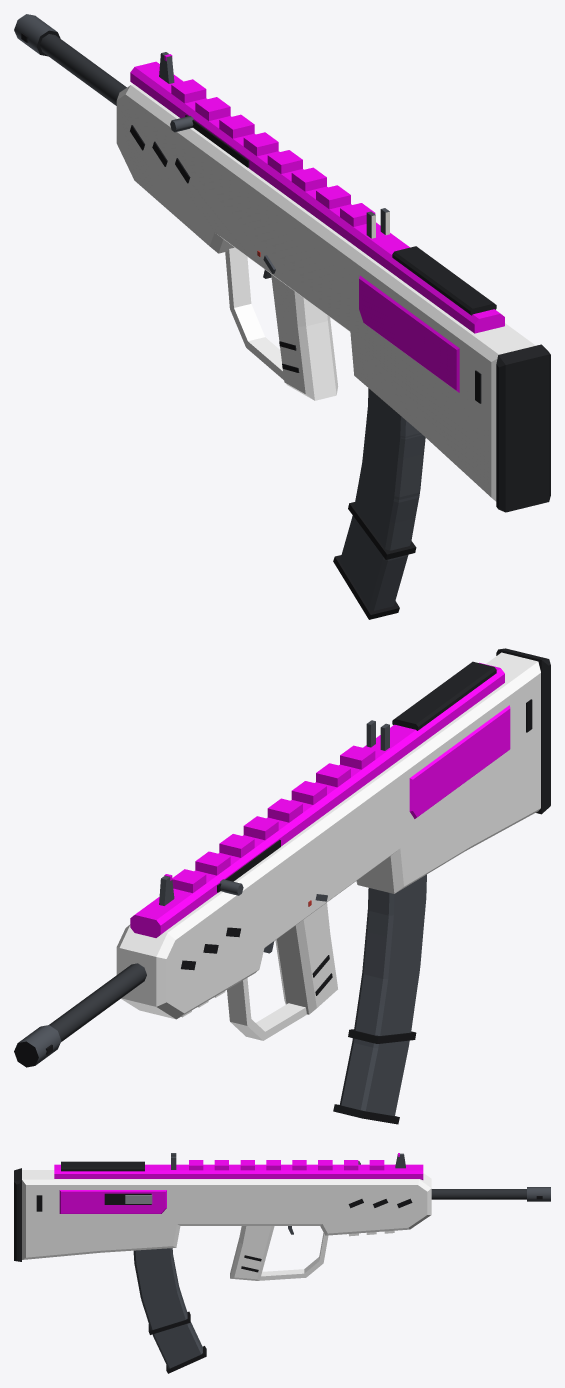
File: rifle_carbine.glb
The picture shows the model from 3 angles, top to bottom: view 1: azimuth 30°, elevation 25°; view 2: azimuth 150°, elevation 25°; view 3: azimuth 270°, elevation 25°; orthographic projection. The views are drawn at different scales.
Visible parts, largest first — view 1: rifle_carbine__body, rifle_carbine__mag, rifle_carbine__mag_ext; view 2: rifle_carbine__body, rifle_carbine__mag_ext, rifle_carbine__mag; view 3: rifle_carbine__body, rifle_carbine__mag_ext, rifle_carbine__mag.
Boxes of the visible parts, x1,y1,x2,y2 form: rifle_carbine__body: (14, 14, 550, 512); rifle_carbine__mag: (348, 388, 424, 559); rifle_carbine__mag_ext: (333, 388, 425, 619); rifle_carbine__body: (14, 648, 550, 1067); rifle_carbine__mag_ext: (333, 875, 426, 1124); rifle_carbine__mag: (348, 874, 426, 1043); rifle_carbine__body: (14, 1153, 550, 1280); rifle_carbine__mag_ext: (134, 1248, 206, 1373); rifle_carbine__mag: (133, 1248, 190, 1334).
Bounding box in the file's own units: 0.0583 × 0.3554 × 0.8.
Materials: 1 (1 with a texture image).
